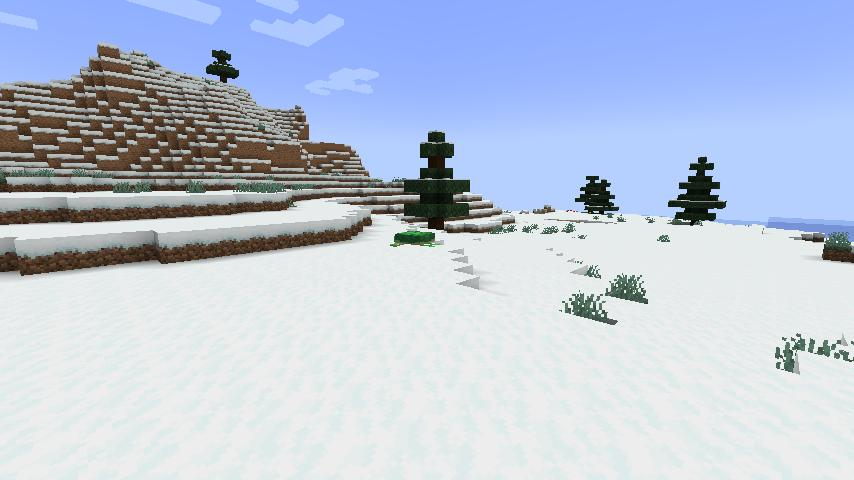turtle: (389, 227, 442, 249)
